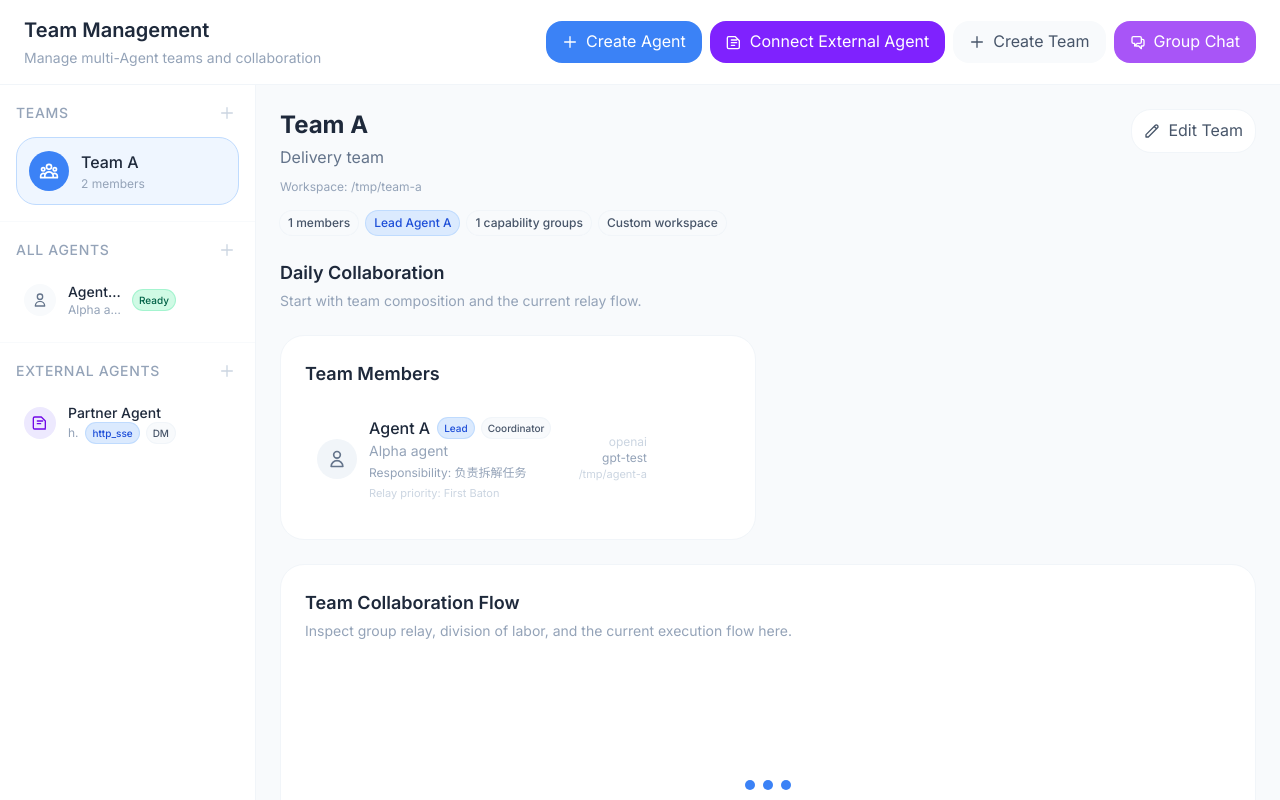
TeamsPage › opens the extracted edit team modal from the team detail panel
Click the button "Edit Team" at (1194, 131), box [1131,109,1256,153]
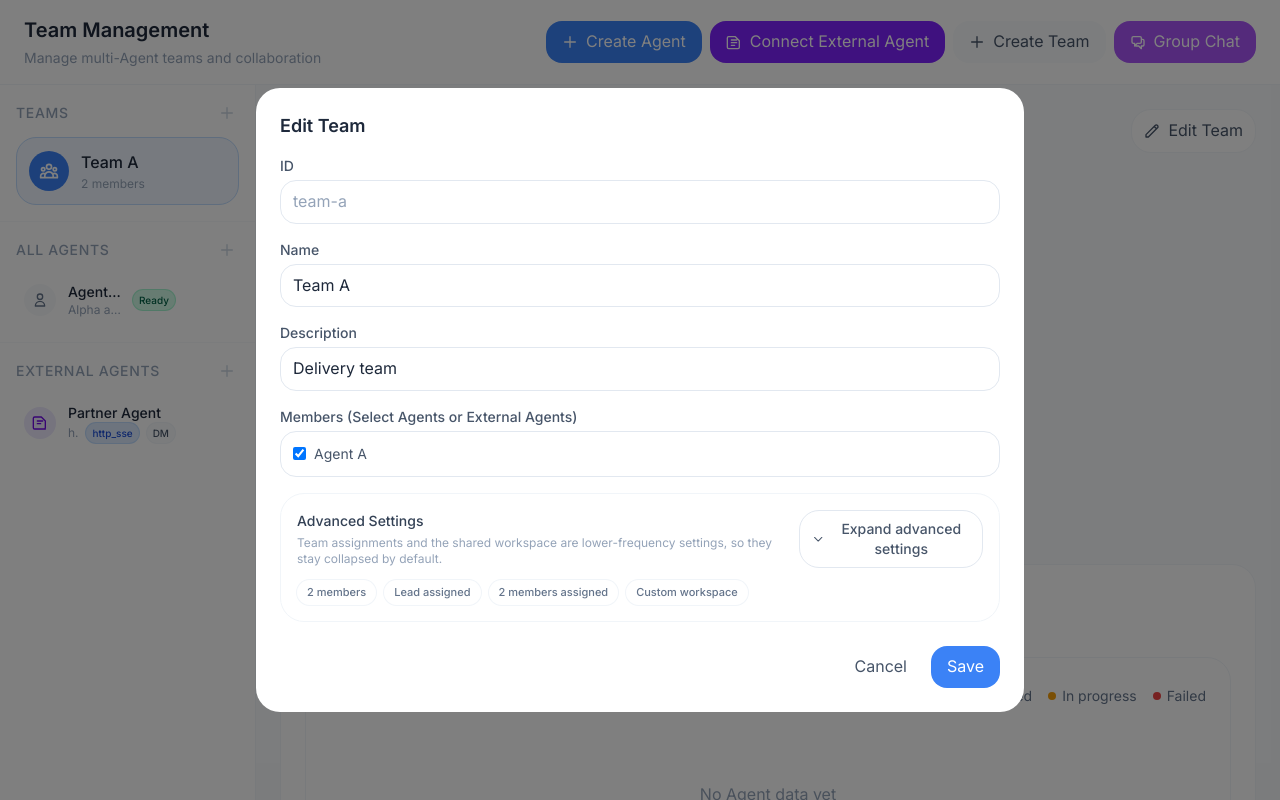
Expected: the heading "Edit Team" is shown, [280,115,366,136]
